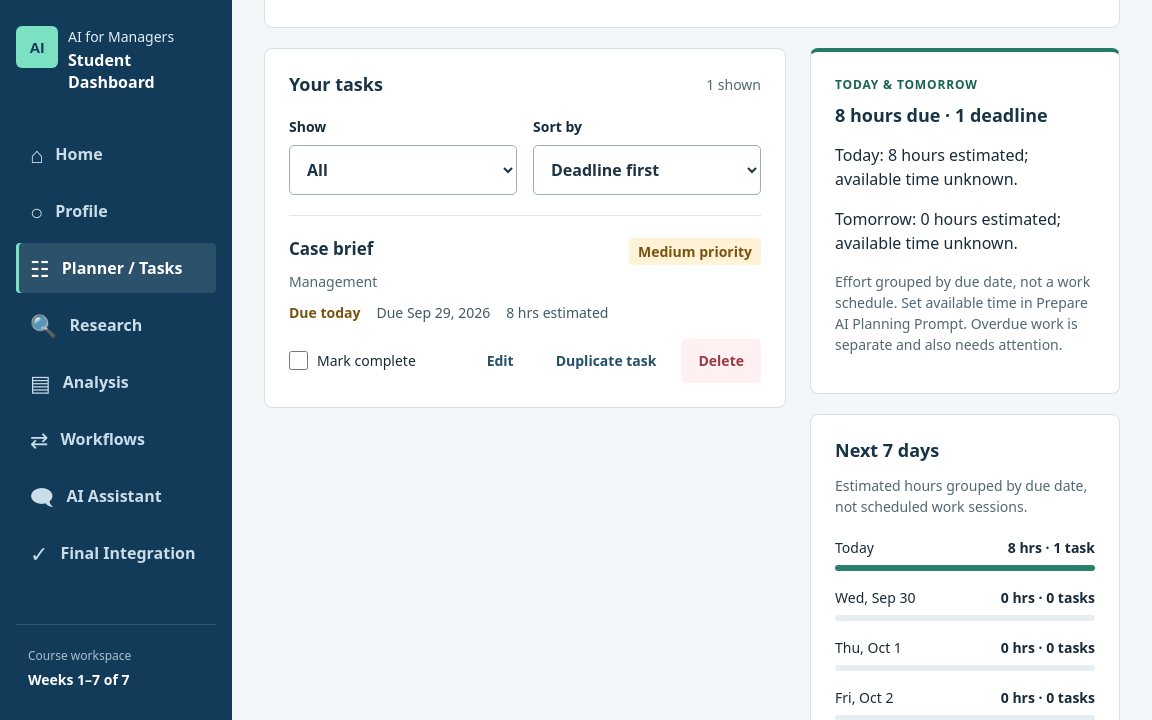
Scenario: planner interactions and persistence › shows workload flags and removes completed tasks from workload
(page scrolled)
Check: the text "Today: 8 hours estimated; available time unknown." is shown, box [835, 144, 1029, 190]
Click the checkbox named "Mark Case brief complete" at (298, 361), box [289, 351, 308, 370]
(page scrolled)
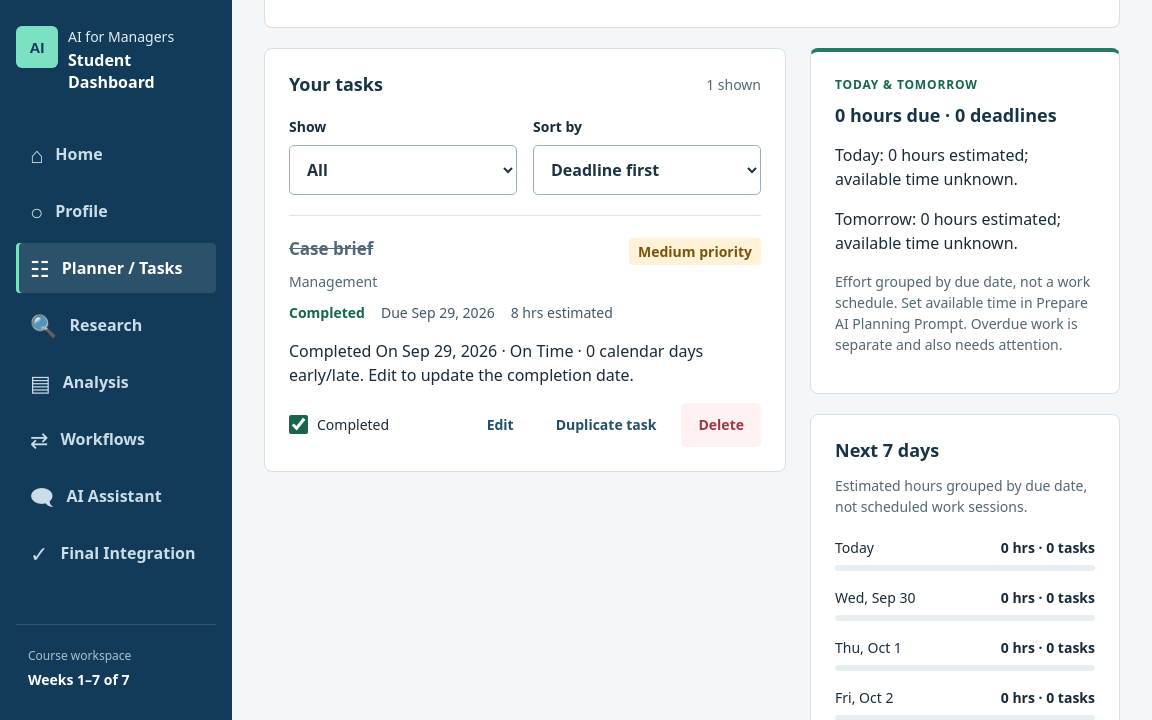
Check: the heading "0 hours due · 0 deadlines" is shown, box [835, 104, 1095, 127]
